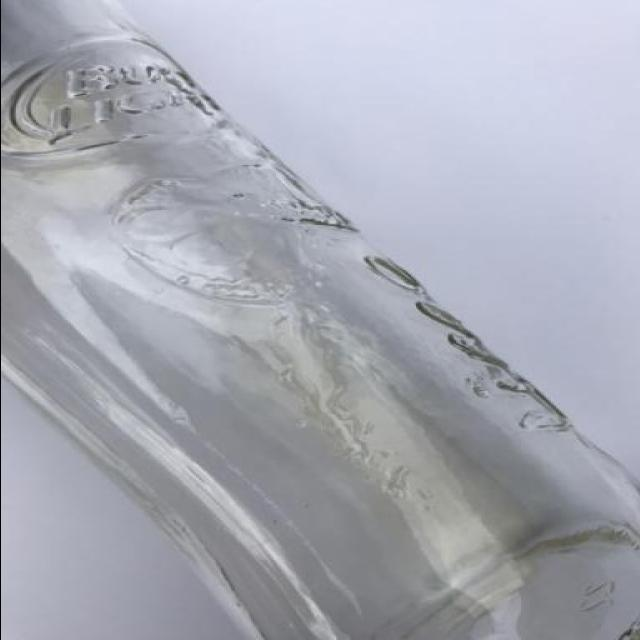litter: (5, 1, 633, 639)
